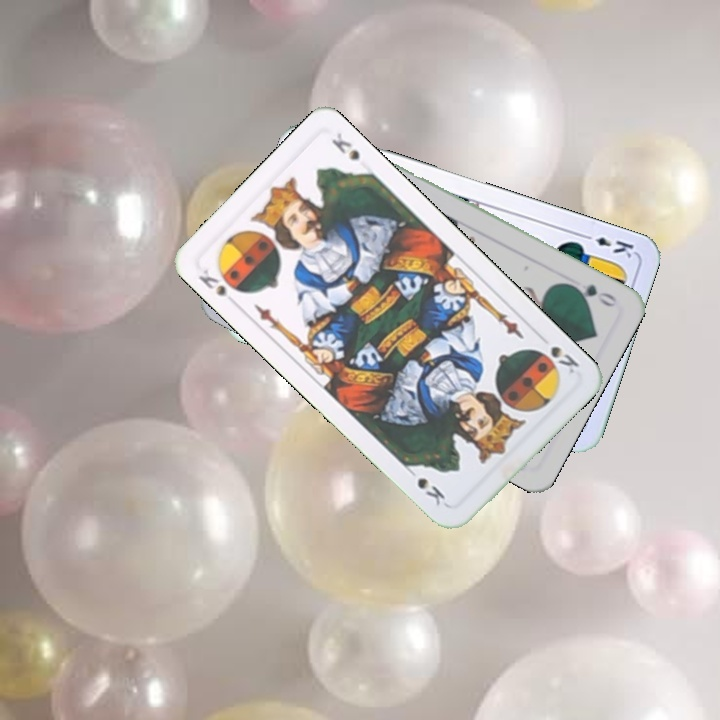EK: (578, 229, 637, 261)
GO: (564, 279, 620, 310)
SK: (194, 265, 241, 307), (546, 342, 582, 377)
